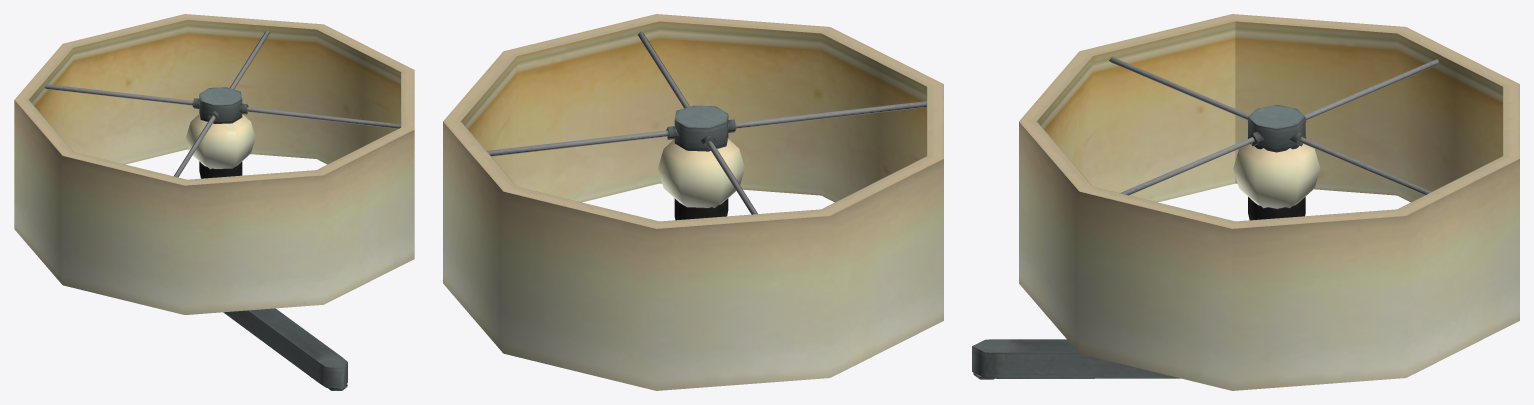
The model's file is paris_bookstore_wall_light_top_on_lod1.glb.
The picture shows the model from 3 angles, left to right: view 1: azimuth 30°, elevation 25°; view 2: azimuth 150°, elevation 25°; view 3: azimuth 270°, elevation 25°; orthographic projection. The views are drawn at different scales.
Parts seen in each view (by area): view 1: surf0; view 2: surf0; view 3: surf0.
Boxes of the visible parts, x1,y1,x2,y2 form: surf0: (14,14,414,390); surf0: (443,14,943,390); surf0: (972,14,1519,390).
Bounding box in the file's own units: 20.04 × 11.21 × 21.58.
